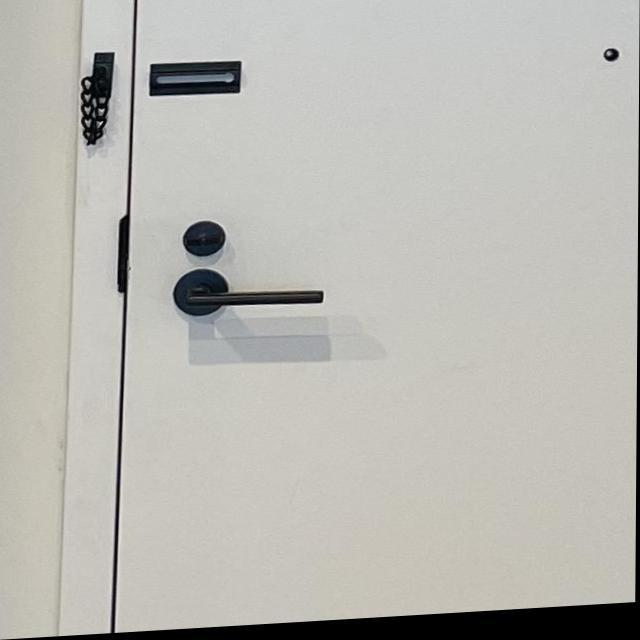door_handle: (161, 264, 330, 334)
